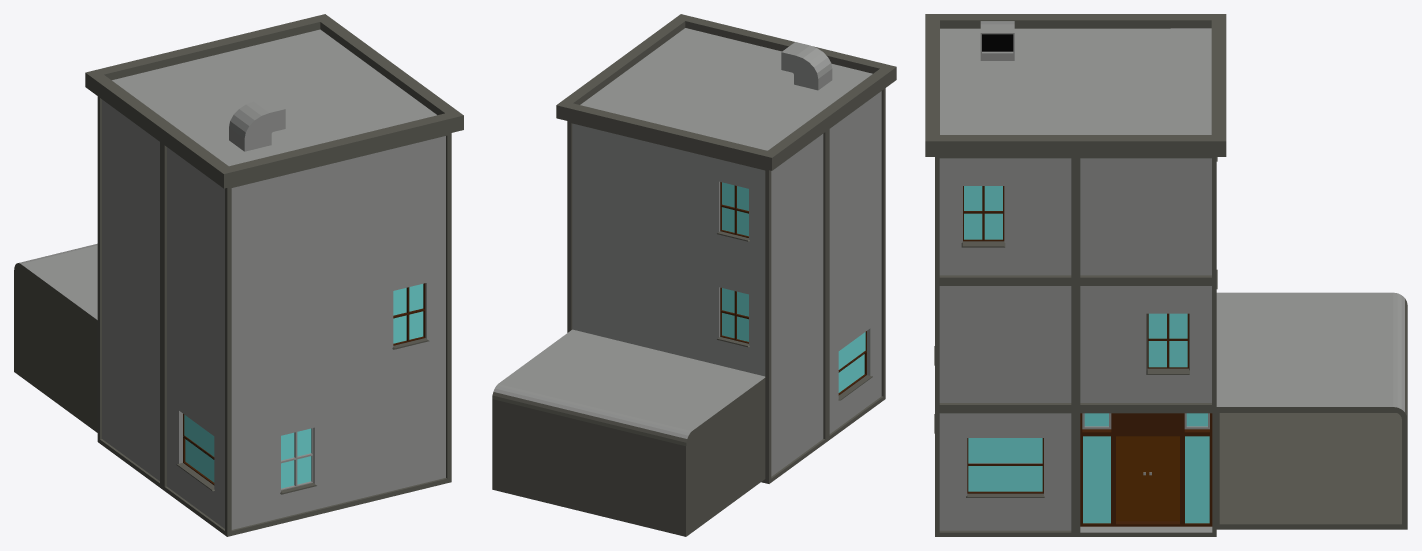
File: house mit garage.fbx
3 views of the same model, side by side, from view 1: azimuth 30°, elevation 25°; view 2: azimuth 150°, elevation 25°; view 3: azimuth 270°, elevation 25° (orthographic). The views are drawn at different scales.
Parts seen in each view (by area): view 1: House 3; view 2: House 3; view 3: House 3.
Boxes of the visible parts, x1=… form: House 3: x1=14, y1=14, x2=463, y2=536; House 3: x1=492, y1=14, x2=896, y2=536; House 3: x1=925, y1=14, x2=1407, y2=536.
Size of the model in its own units: 214 by 335 by 343.
